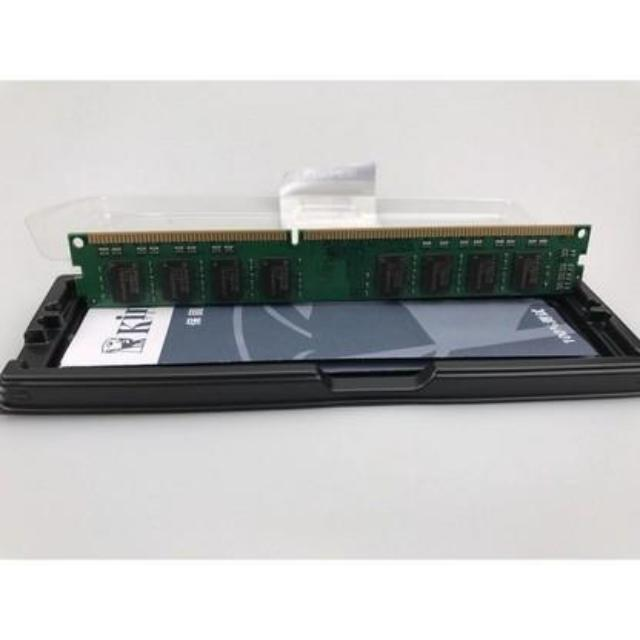RAM: (60, 220, 597, 312)
